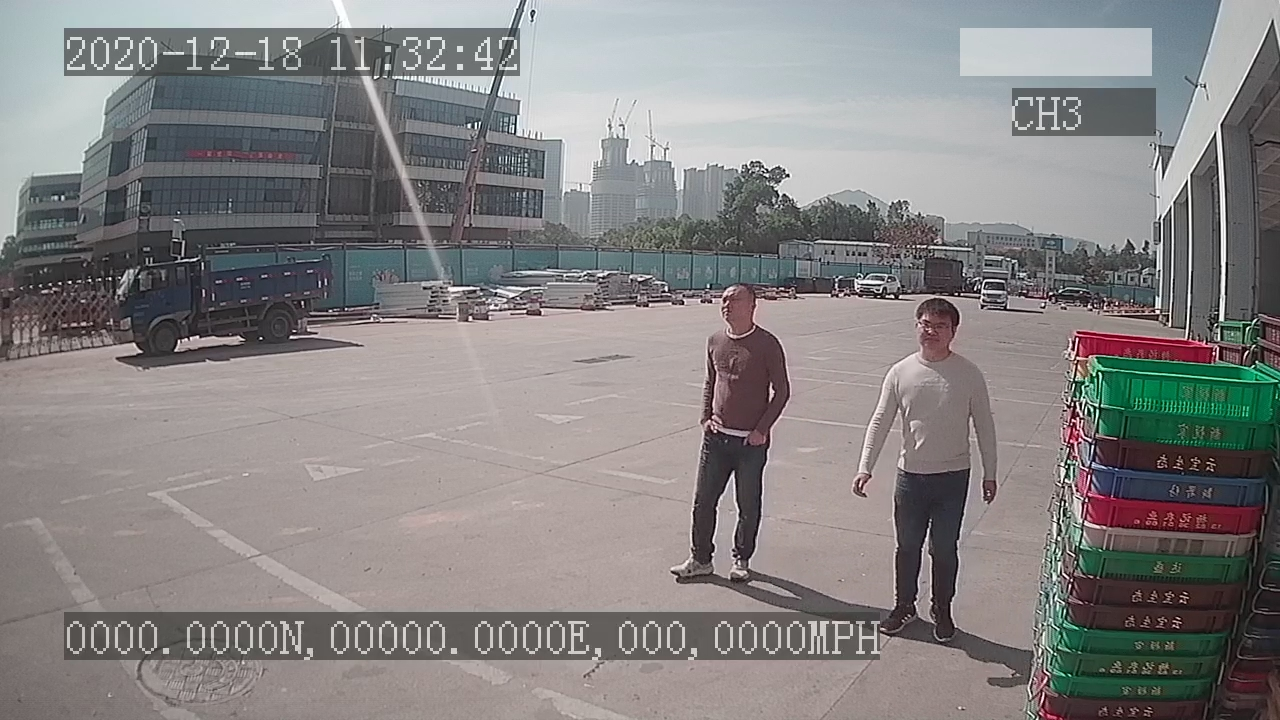person: (670, 274, 791, 582)
